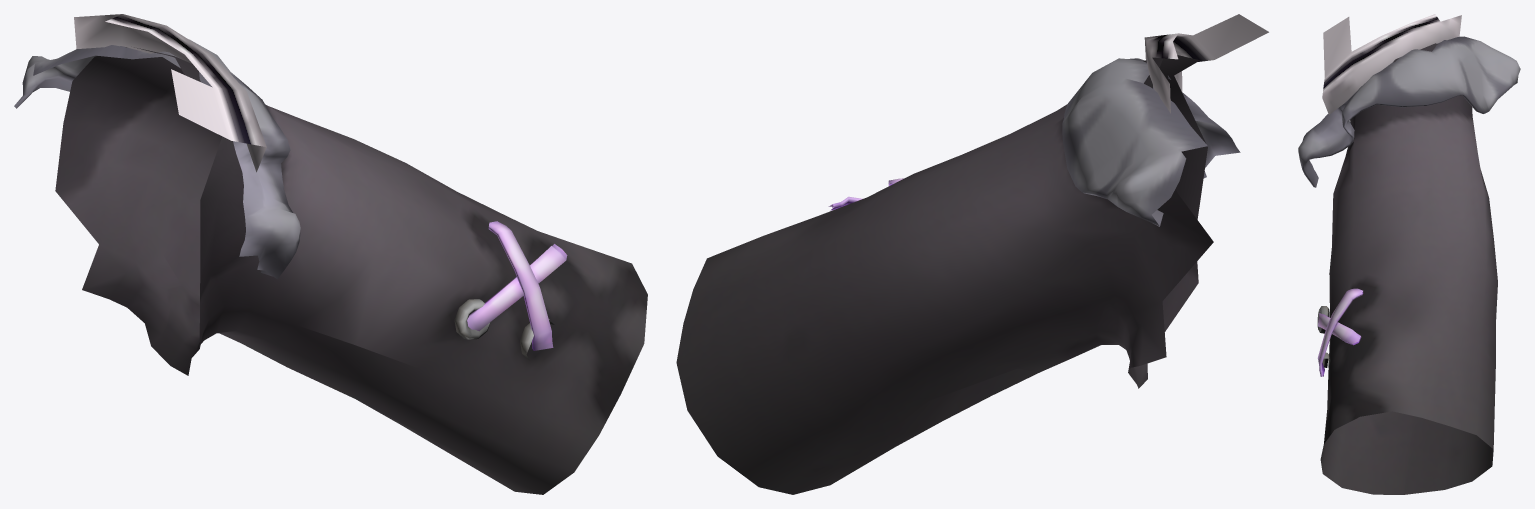
Rendered from arm_upper_L.obj.
3 renders of one model, left to right at view 1: azimuth 30°, elevation 25°; view 2: azimuth 150°, elevation 25°; view 3: azimuth 270°, elevation 25°, orthographic. The views are drawn at different scales.
Parts seen in each view (by area): view 1: arm_upper_L; view 2: arm_upper_L; view 3: arm_upper_L.
Boxes of the visible parts, bbox=[...] form: arm_upper_L: bbox=[14, 14, 647, 494]; arm_upper_L: bbox=[676, 14, 1268, 494]; arm_upper_L: bbox=[1298, 14, 1520, 494].
Bounding box in the file's own units: 0.2636 × 0.2425 × 0.1361.
Materials: 1 (1 with a texture image).
